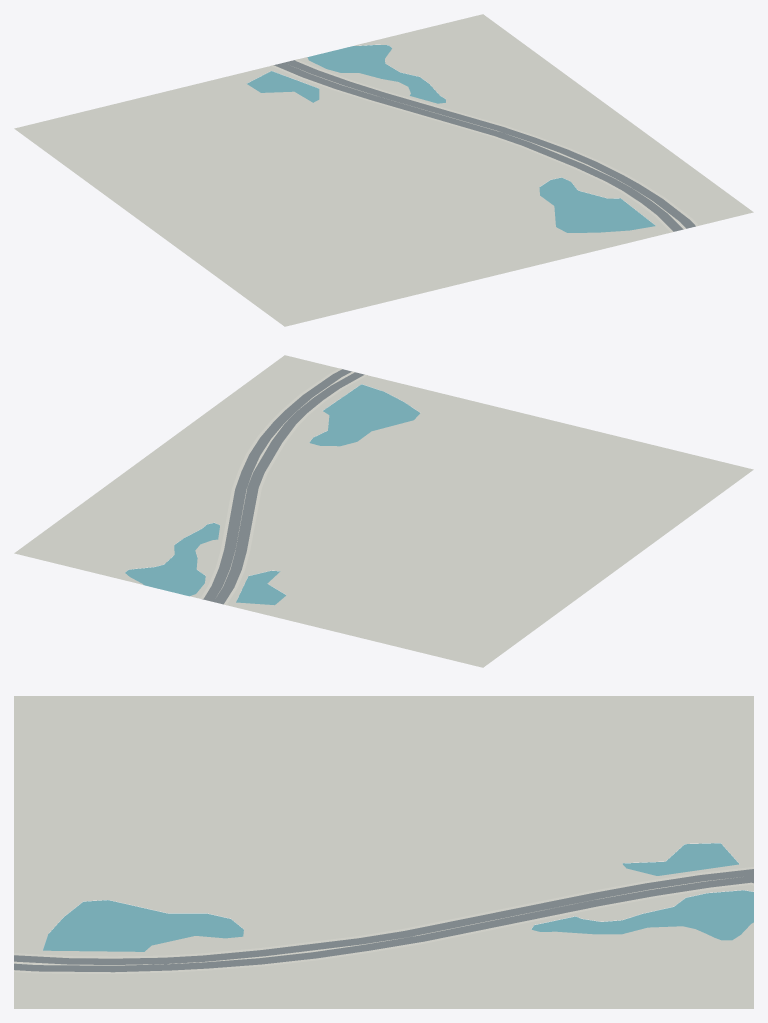
3 views of the same model, one above another, from view 1: azimuth 30°, elevation 25°; view 2: azimuth 150°, elevation 25°; view 3: azimuth 270°, elevation 25° (orthographic). The views are drawn at different scales.
Visible parts, largest first — view 1: city; view 2: city; view 3: city.
Boxes of the visible parts, bbox=[...] form: city: bbox=[14, 14, 753, 326]; city: bbox=[14, 355, 753, 667]; city: bbox=[14, 696, 753, 1008].
Bounding box in the file's own units: 500 × 0.4 × 500.
